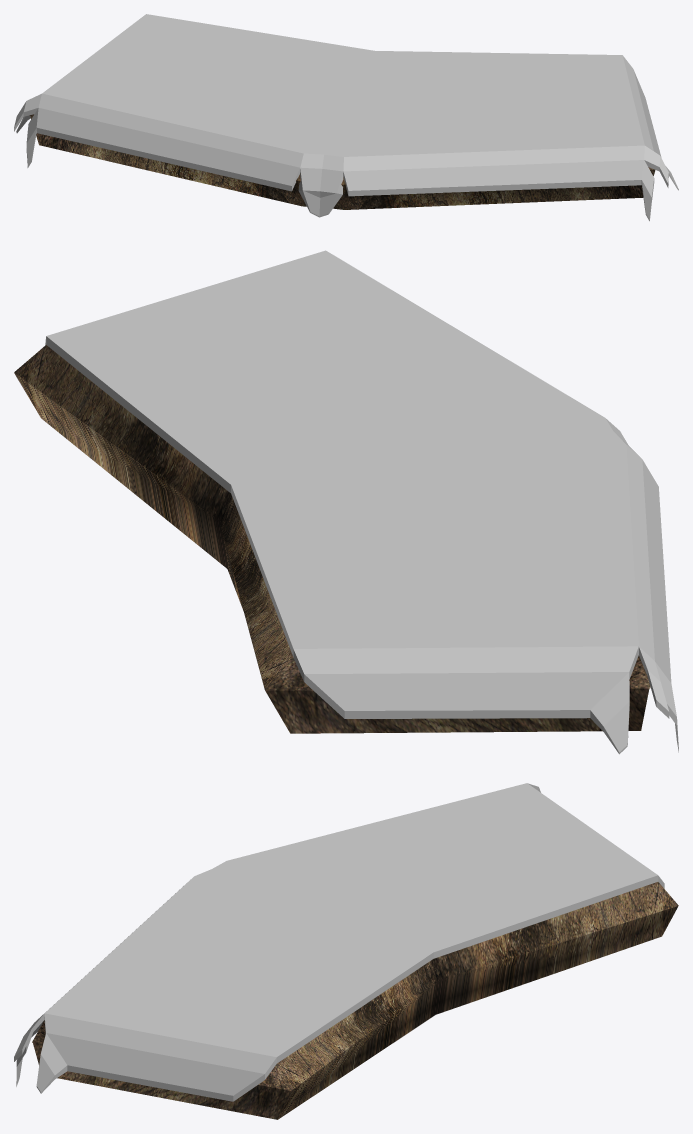
Rendered from Plat_mini.FBX.
3 renders of one model, top to bottom at view 1: azimuth 30°, elevation 25°; view 2: azimuth 150°, elevation 25°; view 3: azimuth 270°, elevation 25°, orthographic. The views are drawn at different scales.
Visible parts, largest first — view 1: Plat012mini; view 2: Plat012mini; view 3: Plat012mini.
Boxes of the visible parts, box(x1,y1,x2,y2) form: Plat012mini: box(14, 14, 678, 221); Plat012mini: box(14, 250, 678, 754); Plat012mini: box(14, 783, 678, 1119).
Size of what is drawn, in the model's own units: 33.88 by 4.18 by 32.19.
